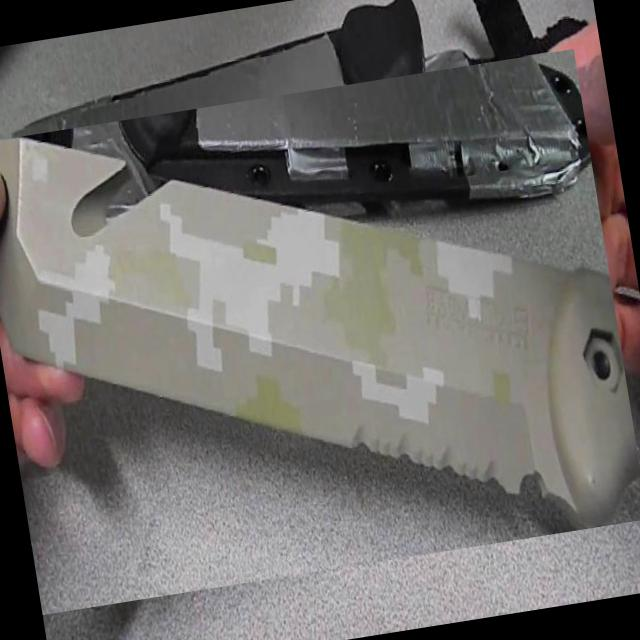Knife: (0, 139, 640, 527)
